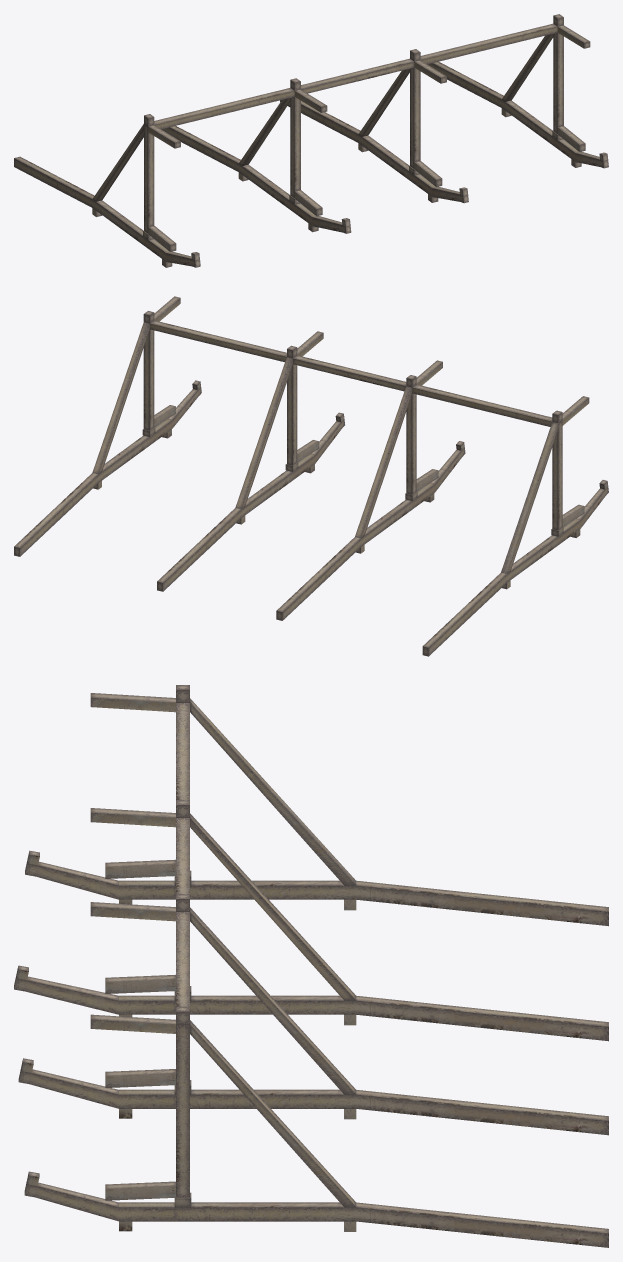
3 renders of one model, top to bottom at view 1: azimuth 30°, elevation 25°; view 2: azimuth 150°, elevation 25°; view 3: azimuth 270°, elevation 25°, orthographic. The views are drawn at different scales.
Visible parts, largest first — view 1: SM_HK_01_08; view 2: SM_HK_01_08; view 3: SM_HK_01_08.
Boxes of the visible parts, left/top/right/bottom form: SM_HK_01_08: left=14, top=14, right=608, bottom=267; SM_HK_01_08: left=14, top=296, right=608, bottom=656; SM_HK_01_08: left=14, top=685, right=608, bottom=1247.
Bounding box in the file's own units: 645 × 217 × 495.
